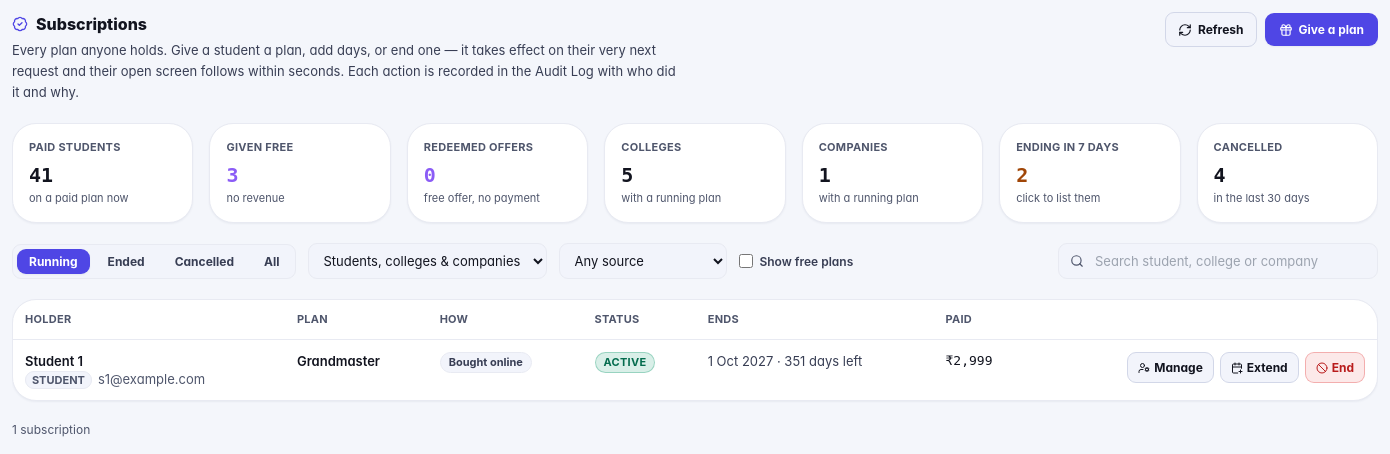
it: Superadmin → Subscriptions — paging and racing requests › does not let a slow answer for an old filter land on top of the current one
This screenshot has width=1390, height=454.
Expected: the button "Student 1" is shown, [25,352,83,370]
Click the button "Cancelled" at (204, 261), box [163,249,246,274]
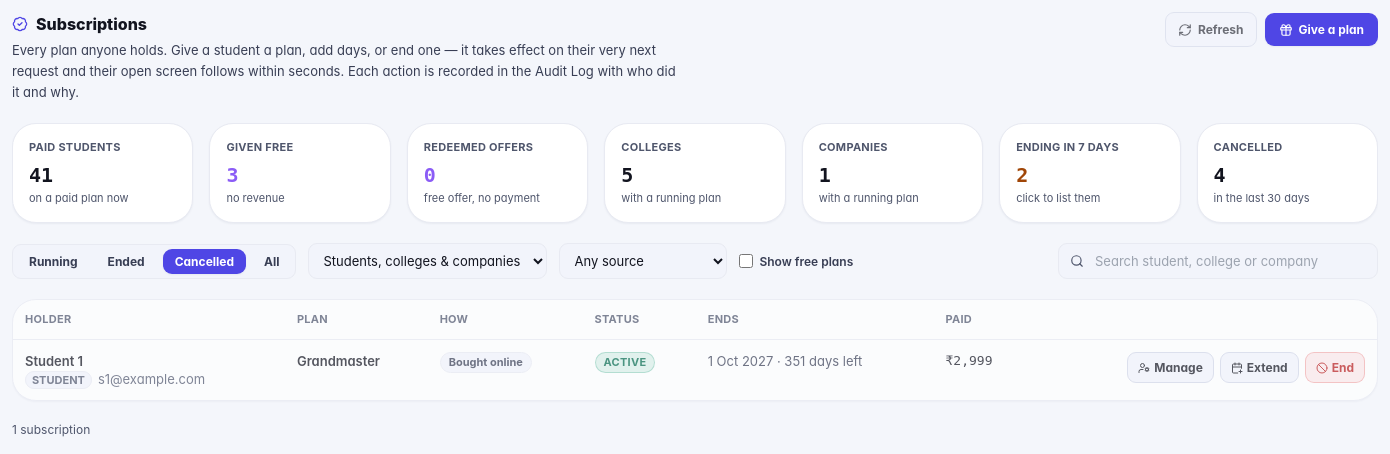
Click the button "Ended" at (126, 261), box [96,249,157,274]
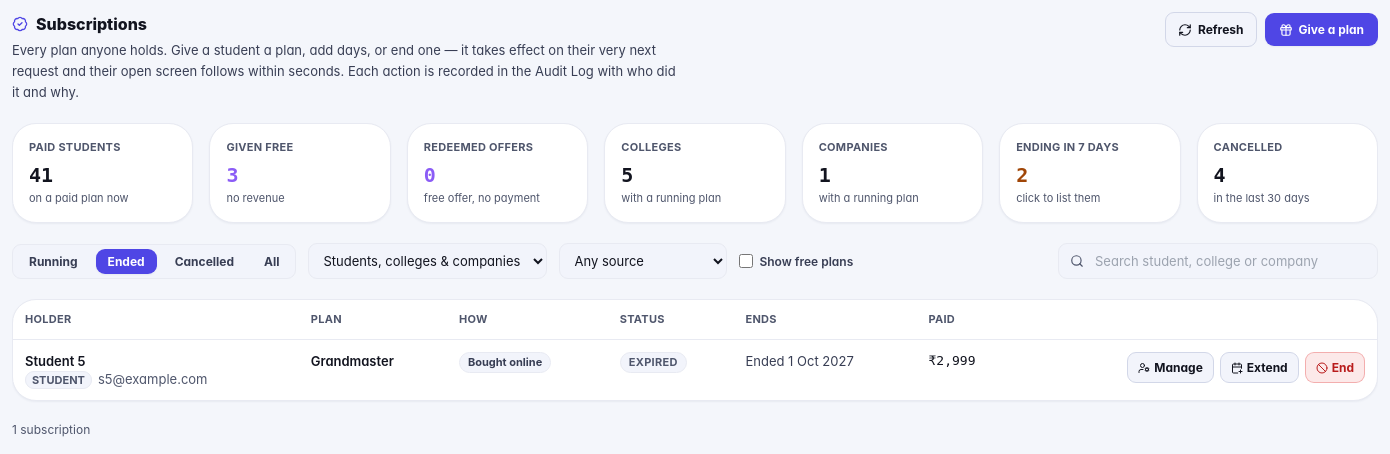
Now the button "Student 5" is shown, box [25,352,86,370]
